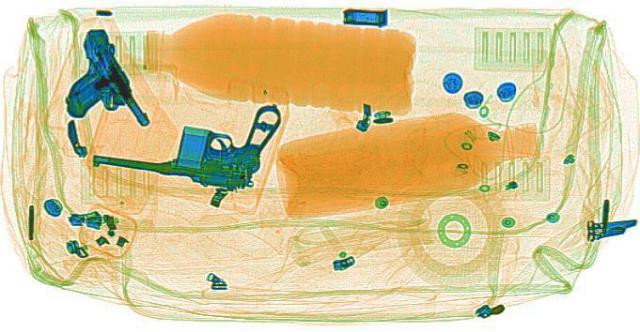Gun: (80, 83, 300, 191), (25, 27, 155, 132)
